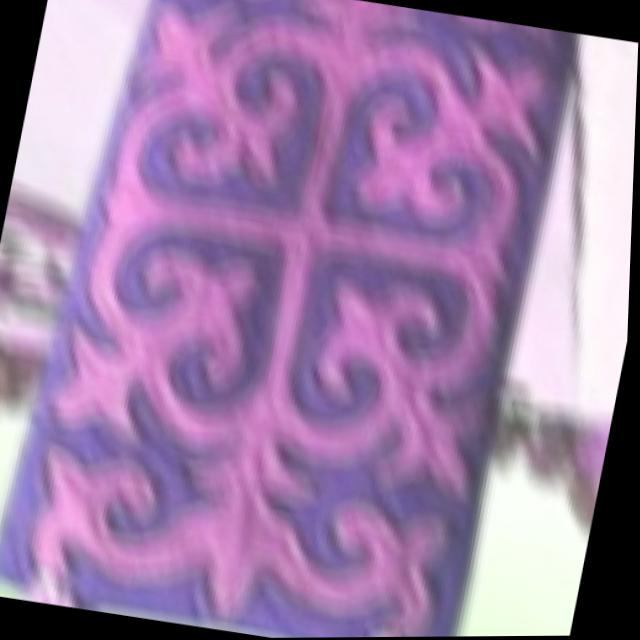Unity: (45, 0, 565, 500)
